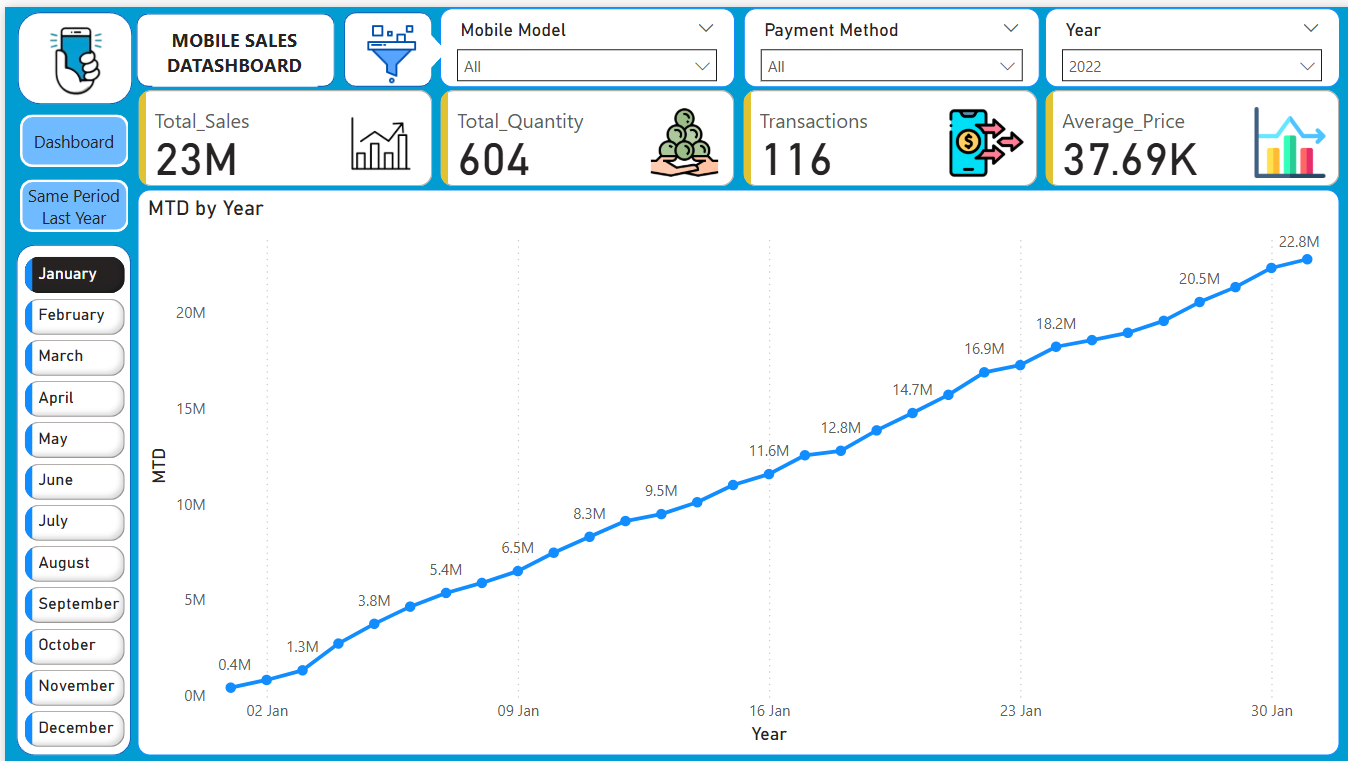

The page's visual inventory and layout, read from the dashboard file:
{"tool":"powerbi","page":{"name":"MTD Report","canvas":[1280,1000],"ordinal":1},"visuals":[{"type":"shape","box":[10,4,92,74],"z":0},{"type":"image","box":[18,9,76,67],"z":1000},{"type":"shape","box":[9,190,92,409],"z":2000},{"type":"cardVisual","fields":{"Data":["Sales_Data.Total_Sales","Sales_Data.Total_Quantity","Sales_Data.Transactions","Sales_Data.Average_Price"]},"box":[102,64,974,81],"z":3000},{"type":"slicer","fields":{"Values":["Sales_Data.Mobile Model"]},"box":[348,1,236,63],"z":4000},{"type":"slicer","fields":{"Values":["Custom_Calender.Date.Variation.Date Hierarchy.Year"]},"box":[832.4,1.2,236,62.9],"z":5000},{"type":"slicer","fields":{"Values":["Sales_Data.Payment Method"]},"box":[591,1,237,63],"z":6000},{"type":"shape","box":[271,4,71,60],"z":7000},{"type":"shape","box":[315,15,38,41],"z":8000},{"type":"image","box":[271,9,77,58],"z":9000},{"type":"shape","box":[105,5,159,59],"z":10000},{"type":"textbox","box":[118,11,132,53],"z":11000},{"type":"lineChart","title":"MTD by Year","fields":{"Y":["Sales_Data.MTD"],"Category":["Custom_Calender.Date.Variation.Date Hierarchy.Year","Custom_Calender.Date.Variation.Date Hierarchy.Quarter","Custom_Calender.Date.Variation.Date Hierarchy.Month","Custom_Calender.Date.Variation.Date Hierarchy.Day"]},"box":[106,146,962,453],"z":12000},{"type":"advancedSlicerVisual","fields":{"Values":["Custom_Calender.Date.Variation.Date Hierarchy.Month"]},"box":[11,195,90,404],"z":13000},{"type":"pageNavigator","box":[12,86,87,94],"z":15001}]}

Visuals, with their boxes on the page's 1280x1000 design canvas (x1, y1, x2, y2). These are canvas units, not pixel positions in the 1348x761 screenshot, which may show the page scaled, cropped or inside an application window:
shape: {"x1": 10, "y1": 4, "x2": 102, "y2": 78}
image: {"x1": 18, "y1": 9, "x2": 94, "y2": 76}
shape: {"x1": 9, "y1": 190, "x2": 101, "y2": 599}
cardVisual - Sales_Data.Total_Sales x Sales_Data.Total_Quantity: {"x1": 102, "y1": 64, "x2": 1076, "y2": 145}
slicer - Sales_Data.Mobile Model: {"x1": 348, "y1": 1, "x2": 584, "y2": 64}
slicer - Custom_Calender.Date.Variation.Date Hierarchy.Year: {"x1": 832, "y1": 1, "x2": 1068, "y2": 64}
slicer - Sales_Data.Payment Method: {"x1": 591, "y1": 1, "x2": 828, "y2": 64}
shape: {"x1": 271, "y1": 4, "x2": 342, "y2": 64}
shape: {"x1": 315, "y1": 15, "x2": 353, "y2": 56}
image: {"x1": 271, "y1": 9, "x2": 348, "y2": 67}
shape: {"x1": 105, "y1": 5, "x2": 264, "y2": 64}
textbox: {"x1": 118, "y1": 11, "x2": 250, "y2": 64}
"MTD by Year" lineChart: {"x1": 106, "y1": 146, "x2": 1068, "y2": 599}
advancedSlicerVisual - Custom_Calender.Date.Variation.Date Hierarchy.Month: {"x1": 11, "y1": 195, "x2": 101, "y2": 599}
pageNavigator: {"x1": 12, "y1": 86, "x2": 99, "y2": 180}
